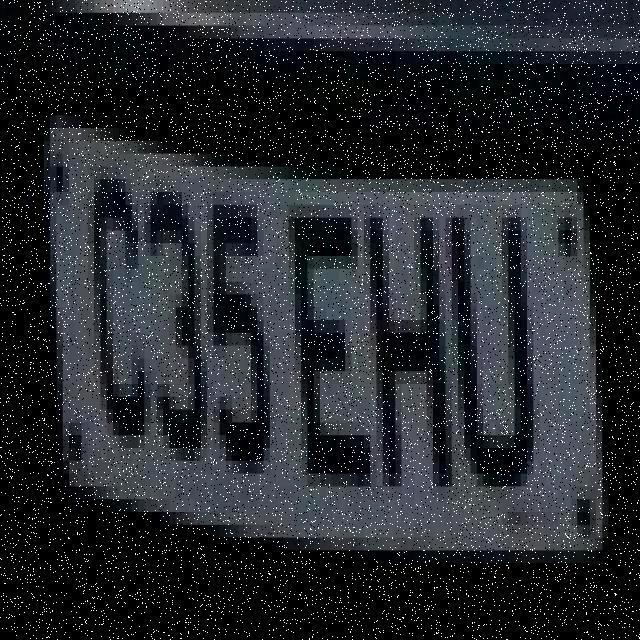LicensePlate: (43, 104, 607, 552)
